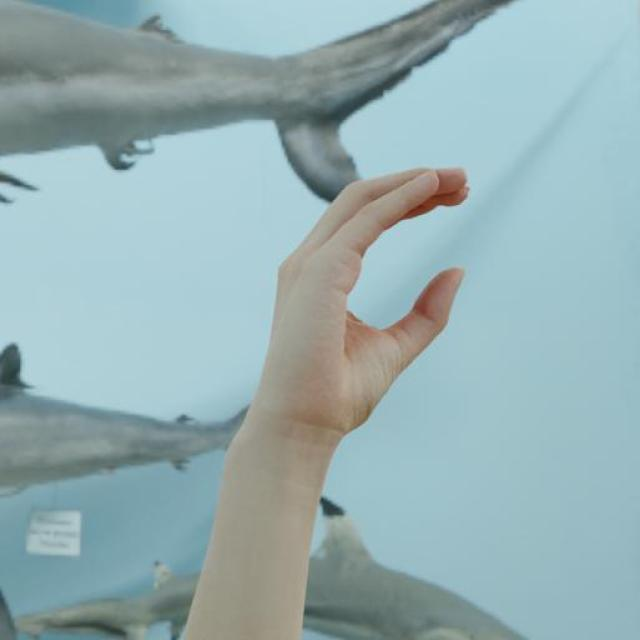C: (228, 167, 471, 431)
